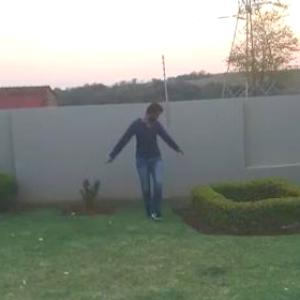land: (99, 99, 196, 234)
